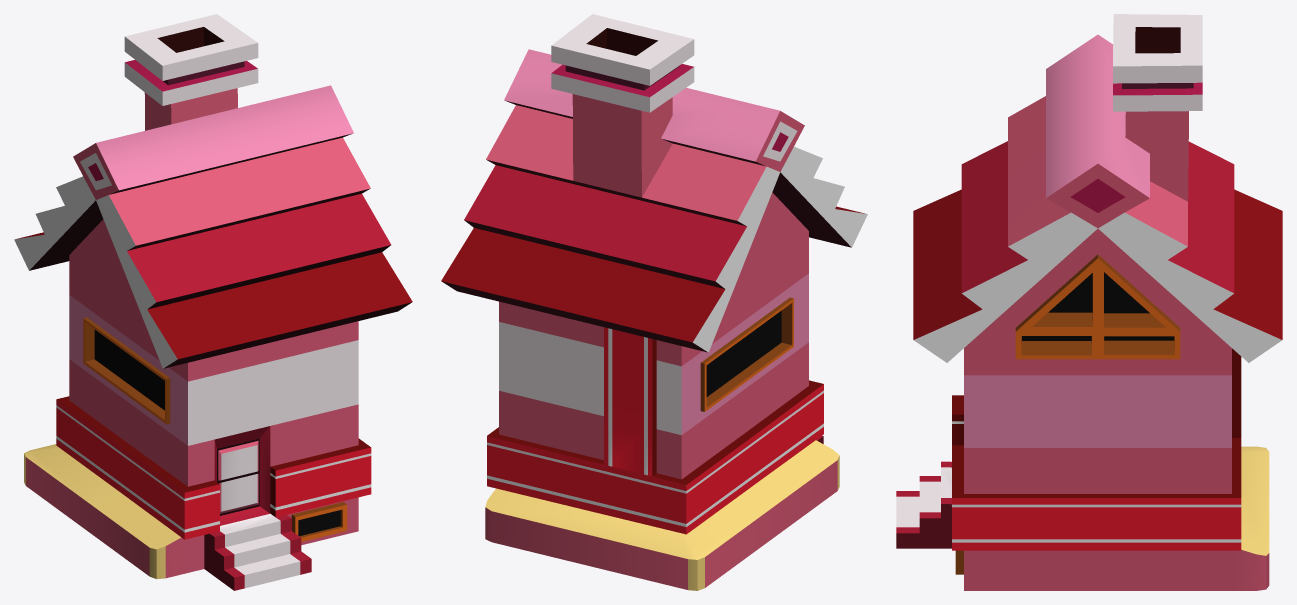
Rendered from House1-2.fbx.
The picture shows the model from 3 angles, left to right: view 1: azimuth 30°, elevation 25°; view 2: azimuth 150°, elevation 25°; view 3: azimuth 270°, elevation 25°; orthographic projection. The views are drawn at different scales.
Visible parts, largest first — view 1: Box004; view 2: Box004; view 3: Box004.
Part boxes in pixels (x1,y1,x2,y2): Box004: [14, 14, 412, 590]; Box004: [441, 14, 867, 590]; Box004: [896, 14, 1282, 590].
Bounding box in the file's own units: 0.6309 × 1.15 × 0.7963.
